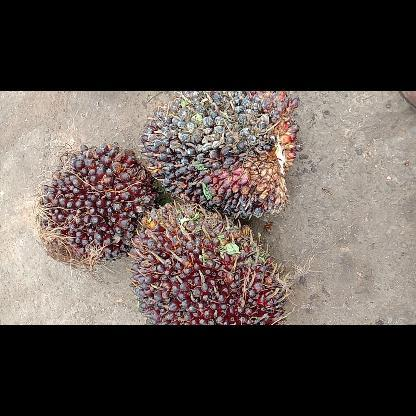Kurang masak: (129, 200, 285, 324), (35, 146, 151, 264)
TBS mentah: (140, 92, 302, 220)
